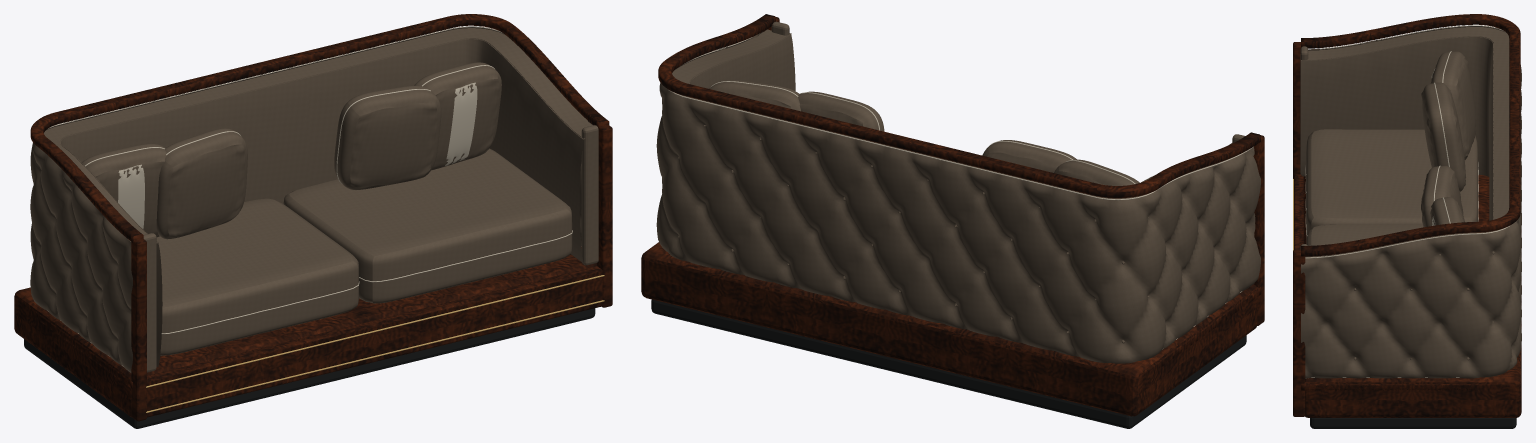
3 renders of one model, left to right at view 1: azimuth 30°, elevation 25°; view 2: azimuth 150°, elevation 25°; view 3: azimuth 270°, elevation 25°, orthographic. The views are drawn at different scales.
Parts seen in each view (by area): view 1: Madison two-seat sofa | 50533.0 | lounge-8 web batch; view 2: Madison two-seat sofa | 50533.0 | lounge-8 web batch; view 3: Madison two-seat sofa | 50533.0 | lounge-8 web batch.
Part boxes in pixels (x1=…): Madison two-seat sofa | 50533.0 | lounge-8 web batch: x1=14, y1=14, x2=612, y2=428; Madison two-seat sofa | 50533.0 | lounge-8 web batch: x1=641, y1=14, x2=1264, y2=428; Madison two-seat sofa | 50533.0 | lounge-8 web batch: x1=1293, y1=14, x2=1521, y2=428.
Size of the model in its own units: 2.1 by 0.95 by 0.95.
5 materials, 2 textured.
